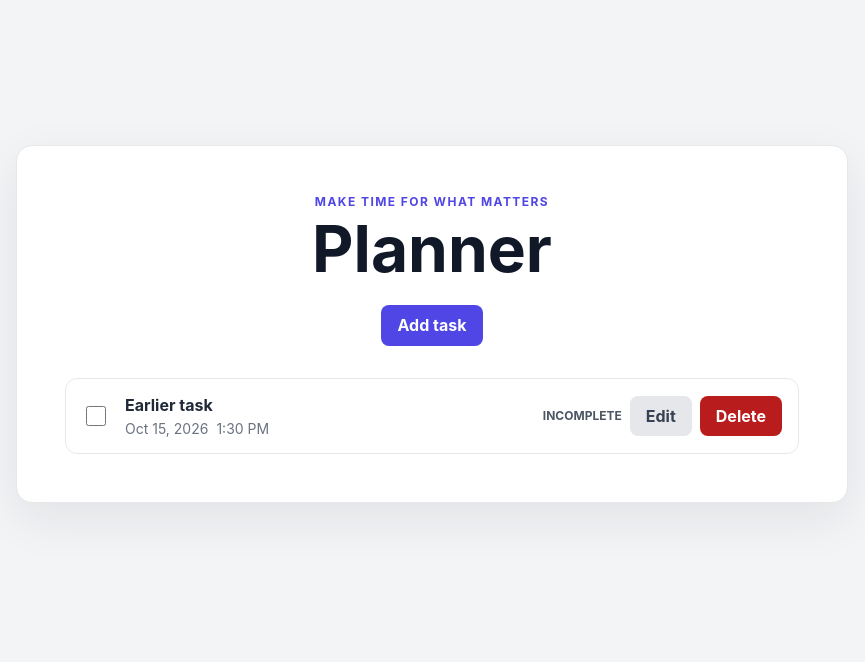
Scenario: App › populates the edit form and persists saved changes
The width and height of the screenshot is (865, 662).
Step 1. Click the button "Edit" → {"x": 661, "y": 416}, box [630,396,692,436]
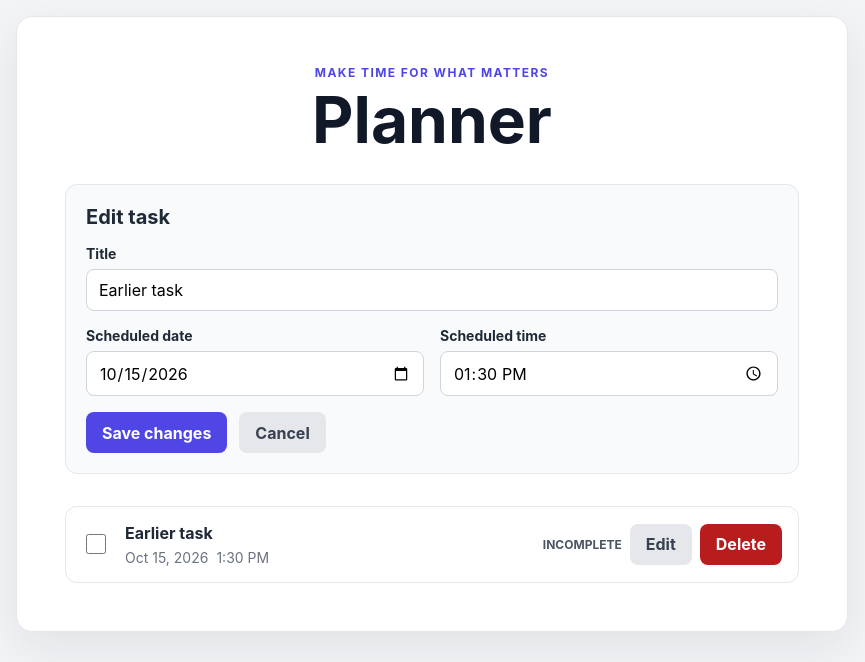
Expected: the field labelled "Title" holds "Earlier task"
Expected: the date field labelled "Scheduled date" holds "2026-10-15", [86,351,424,396]
Expected: the time field labelled "Scheduled time" holds "13:30", [440,351,778,396]
Step 2. Replace the text in the field labelled "Title" with "Updated task" → {"x": 432, "y": 290}, box [86,269,778,311]
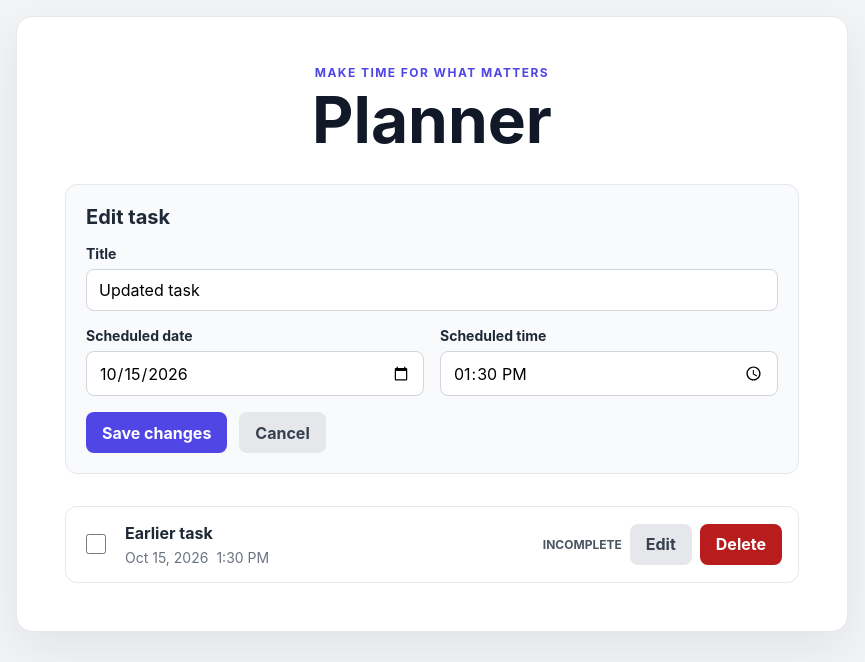
Step 3. Type "2026-10-20" into the date field labelled "Scheduled date" → {"x": 255, "y": 374}, box [86,351,424,396]
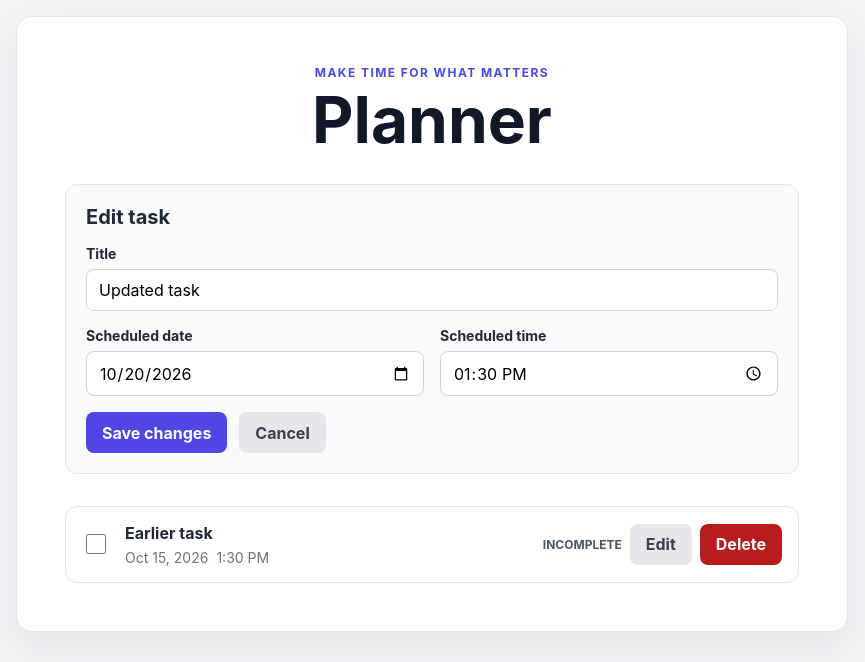
Step 4. Click the button "Save changes" → {"x": 157, "y": 433}, box [86,412,227,453]
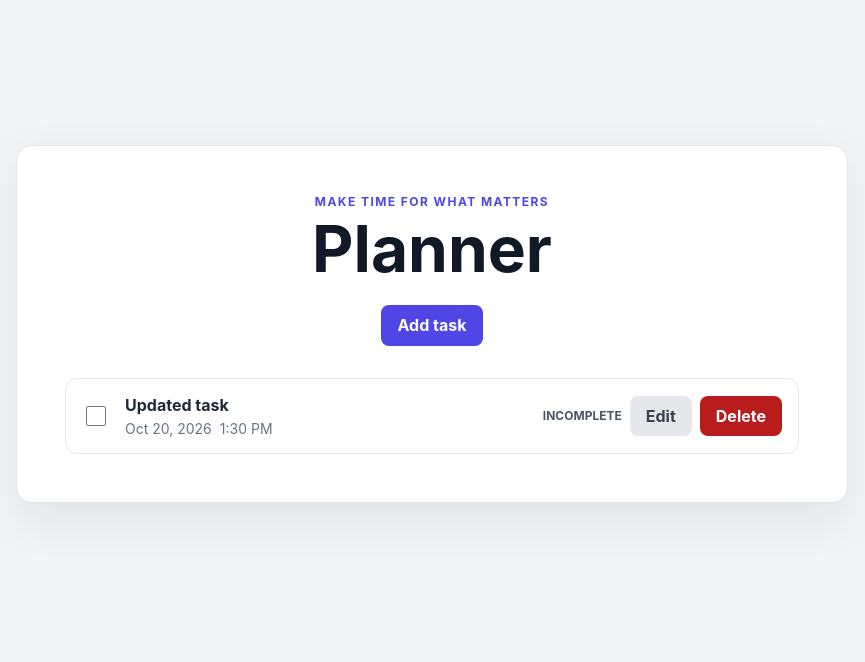
Expected: the heading "Updated task" is shown, [125,395,229,415]
